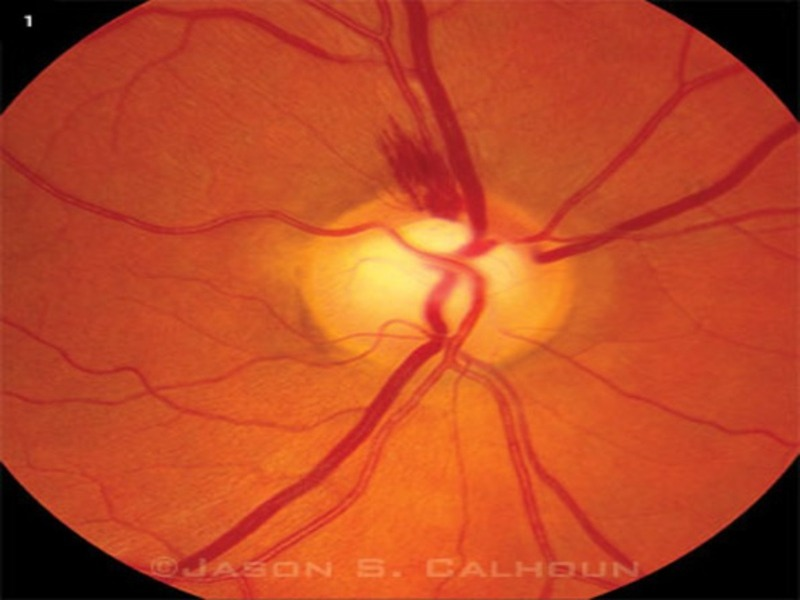Optic Cup: (362, 220, 478, 309)
Optic Disc: (293, 184, 586, 367)
